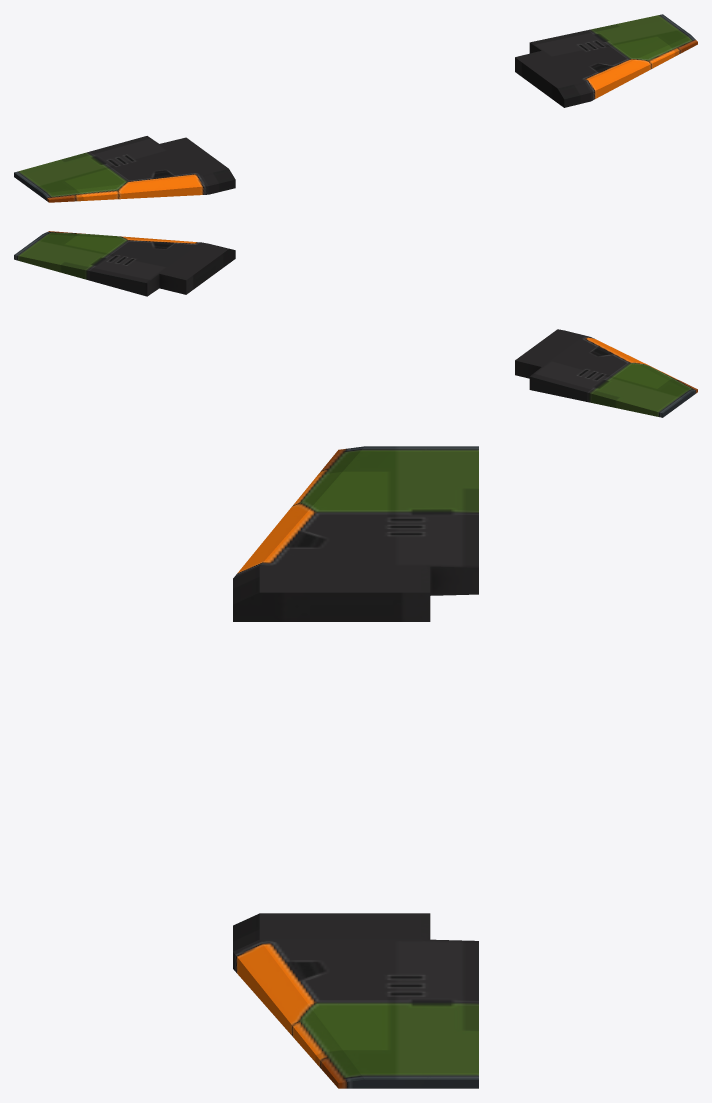
Rendered from Mod-A_blue.FBX.
3 views of the same model, one above another, from view 1: azimuth 30°, elevation 25°; view 2: azimuth 150°, elevation 25°; view 3: azimuth 270°, elevation 25° (orthographic). The views are drawn at different scales.
Visible parts, largest first — view 1: Mod-A_Right, Mod-A_Left; view 2: Mod-A_Left, Mod-A_Right; view 3: Mod-A_Left, Mod-A_Right.
Part boxes in pixels (x1,y1,x2,y2): Mod-A_Right: [14, 136, 235, 202]; Mod-A_Left: [515, 14, 697, 107]; Mod-A_Left: [14, 231, 235, 296]; Mod-A_Right: [515, 329, 697, 417]; Mod-A_Left: [233, 913, 478, 1088]; Mod-A_Right: [233, 446, 478, 621].
Size of the model in its own units: 11582 by 1901 by 250.
